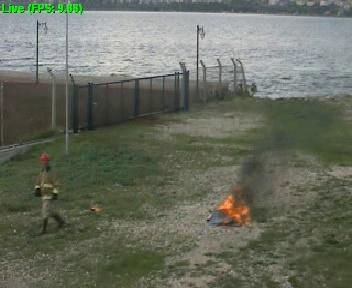fire: (225, 198, 249, 220)
